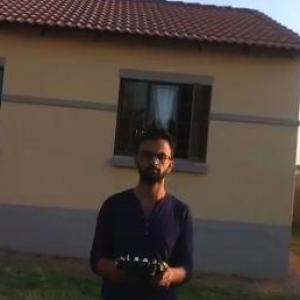follow: (85, 118, 198, 298)
